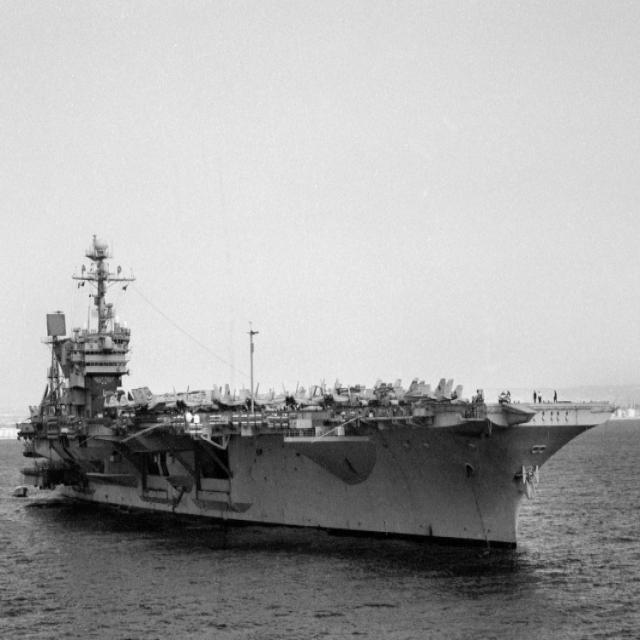Portanaves: (9, 225, 624, 582)
